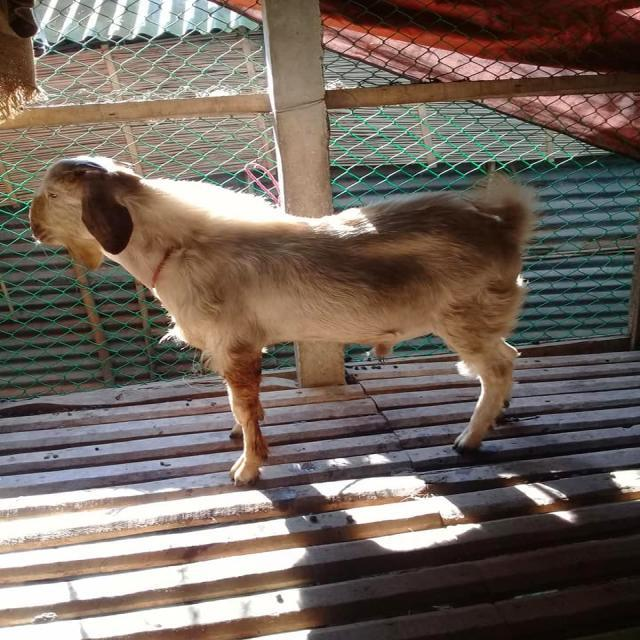Goat: (29, 153, 543, 487)
